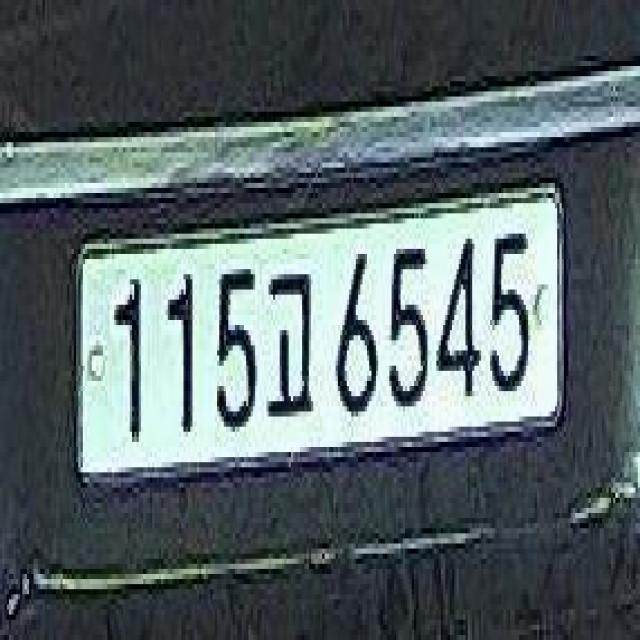illegal_plate: (74, 175, 563, 490)
